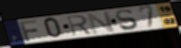0: (43, 17, 65, 40)
7: (137, 5, 156, 31)
F: (18, 19, 39, 42)
N: (86, 10, 117, 35)
R: (65, 14, 94, 37)
S: (114, 9, 140, 32)
